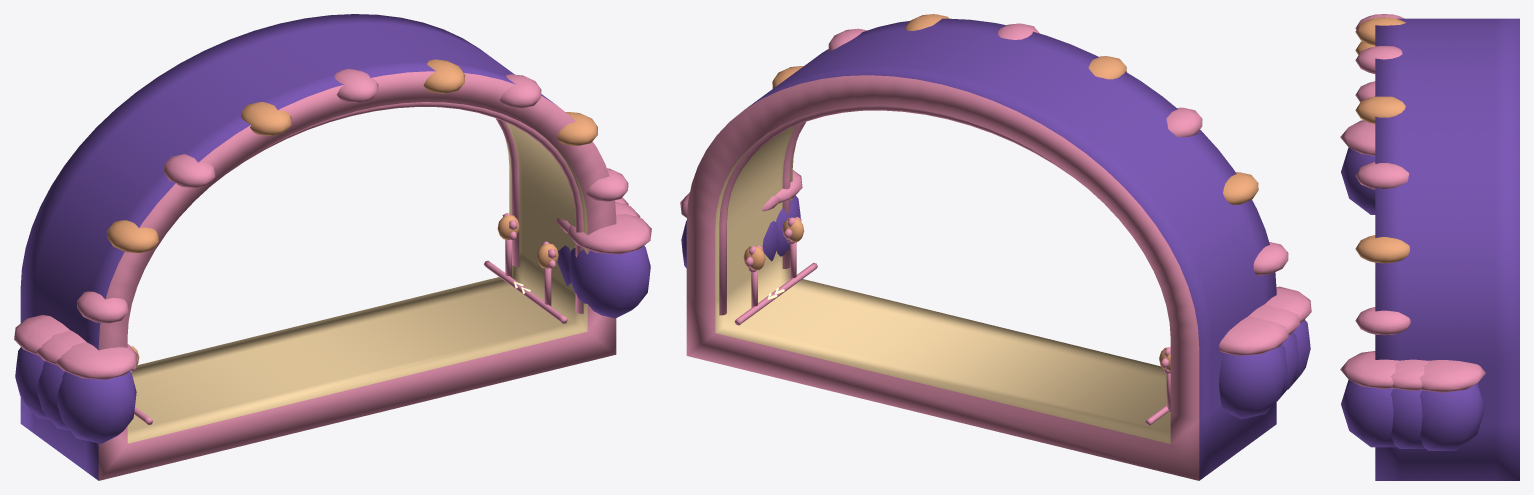
File: portal_entry.glb
3 renders of one model, left to right at view 1: azimuth 30°, elevation 25°; view 2: azimuth 150°, elevation 25°; view 3: azimuth 270°, elevation 25°, orthographic. The views are drawn at different scales.
Parts seen in each view (by area): view 1: TunnelGeometry; view 2: TunnelGeometry; view 3: TunnelGeometry.
Boxes of the visible parts, x1,y1,x2,y2 form: TunnelGeometry: [14, 14, 651, 480]; TunnelGeometry: [680, 14, 1311, 480]; TunnelGeometry: [1340, 14, 1519, 480].
Bounding box in the file's own units: 17.73 × 9.62 × 4.97.
5 materials, 2 textured.
